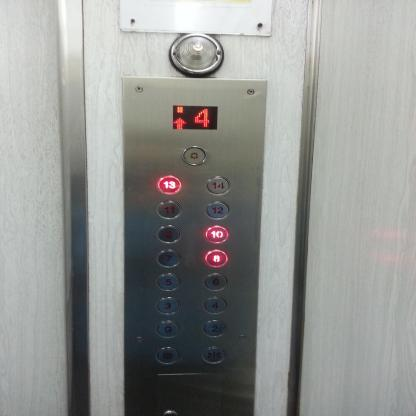10: (204, 225, 228, 243)
11: (157, 200, 181, 219)
12: (206, 201, 230, 219)
13: (157, 175, 181, 194)
14: (206, 176, 230, 194)
2: (203, 320, 226, 337)
3: (156, 297, 180, 315)
4: (204, 296, 226, 314)
5: (156, 273, 180, 291)
6: (204, 273, 228, 291)
7: (156, 249, 180, 267)
8: (204, 249, 228, 267)
9: (157, 225, 180, 243)
G: (156, 320, 180, 338)
alarm: (182, 145, 206, 165)
close: (202, 346, 225, 364)
led: (171, 103, 218, 130)
open: (155, 347, 179, 365)
unknown: (166, 30, 225, 76)
